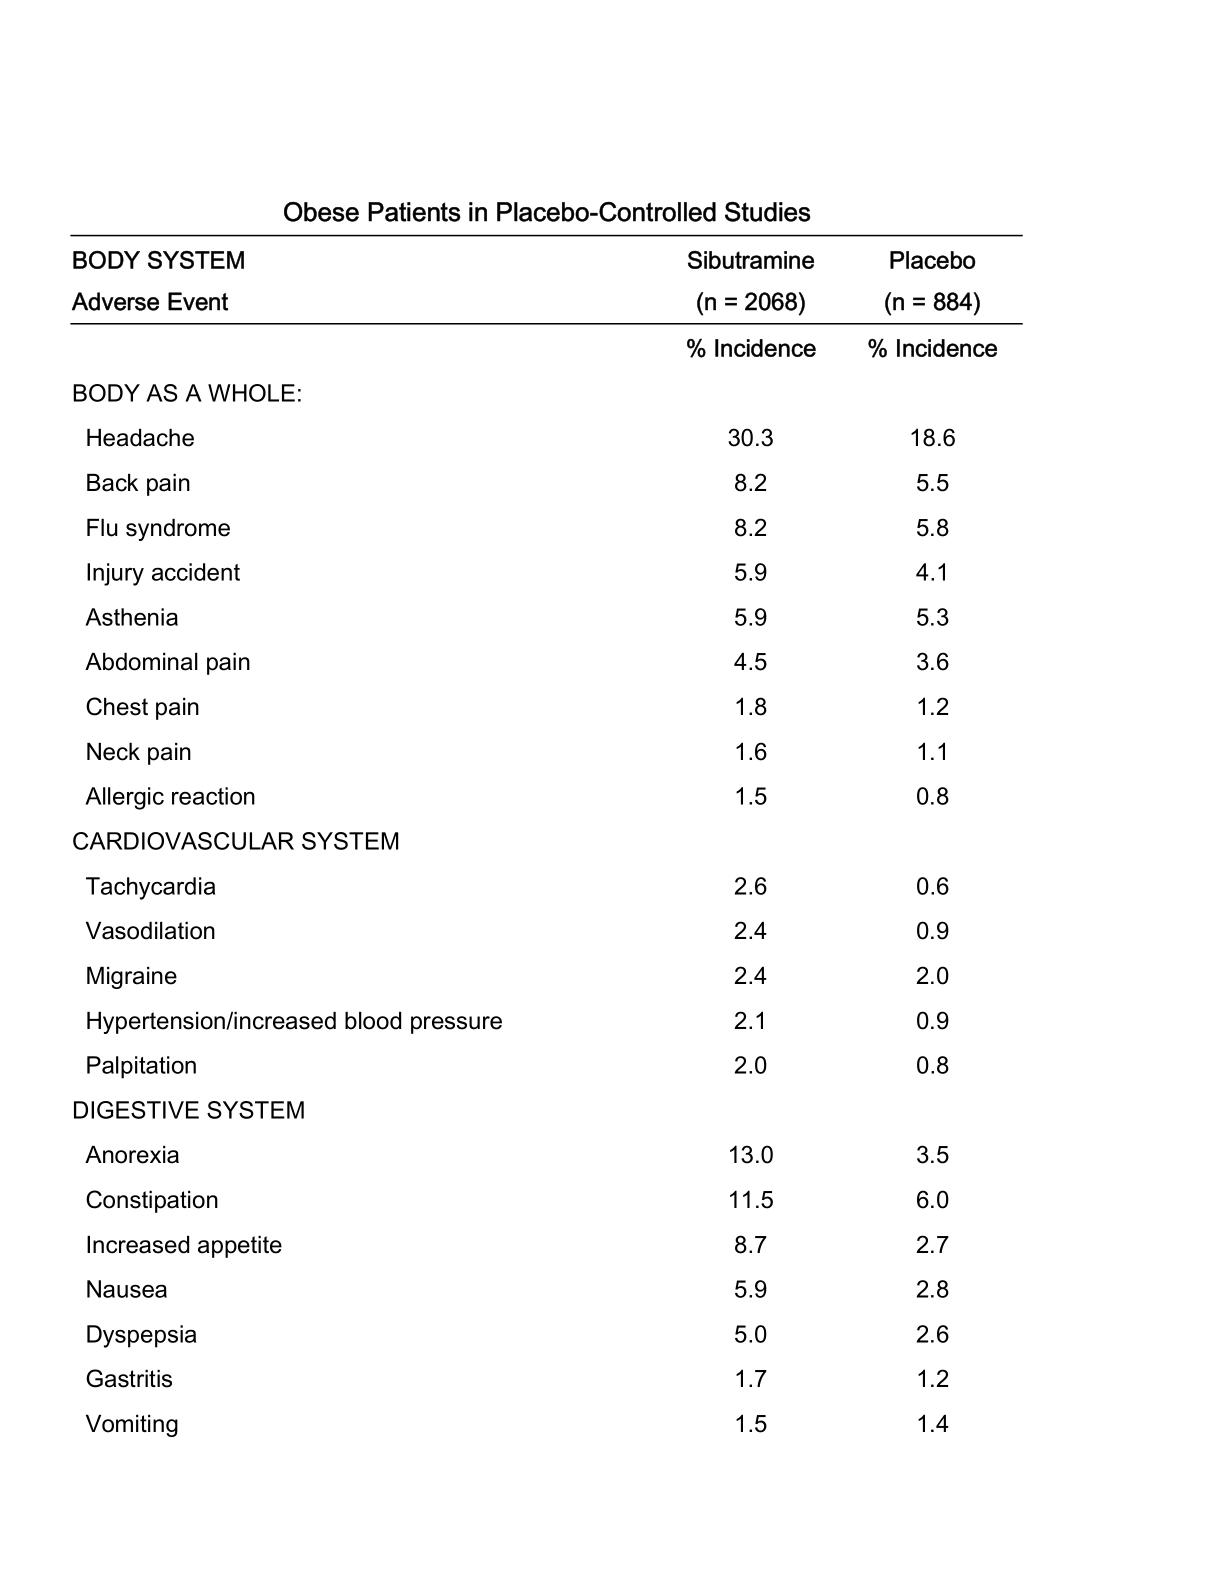partial_lined: (69, 231, 1023, 1443)
